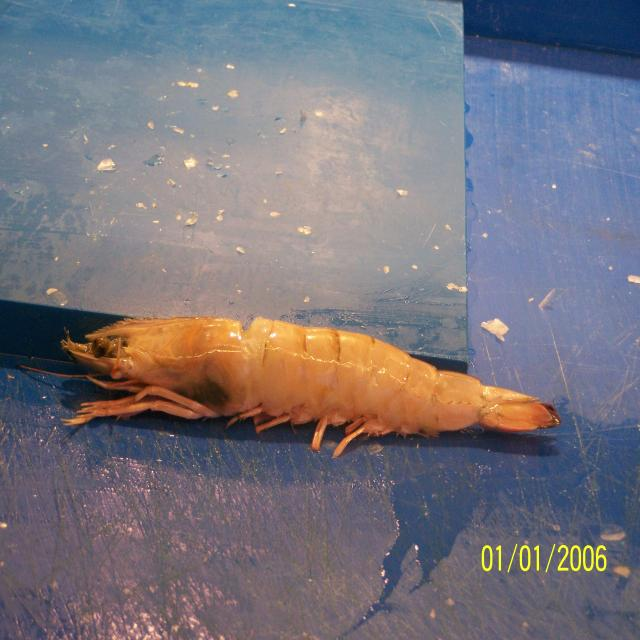Shrimp-karides-: (61, 318, 560, 456)
